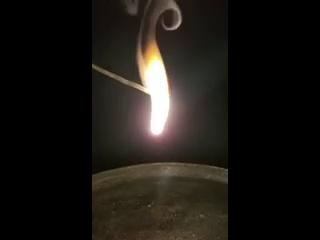Fire: (137, 12, 172, 136)
